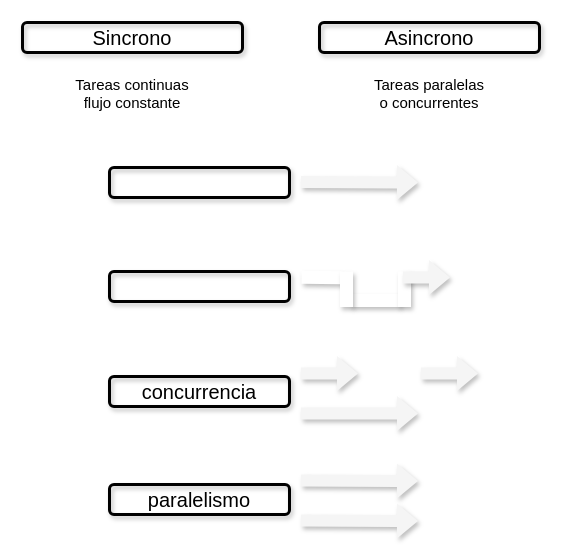
The diagram is 564 pixels wide and 556 high, and some of its shapes have lost their labels. Each missing label, with the centre of its shape:
continuo: [200,184]
subrutina: [200,288]
